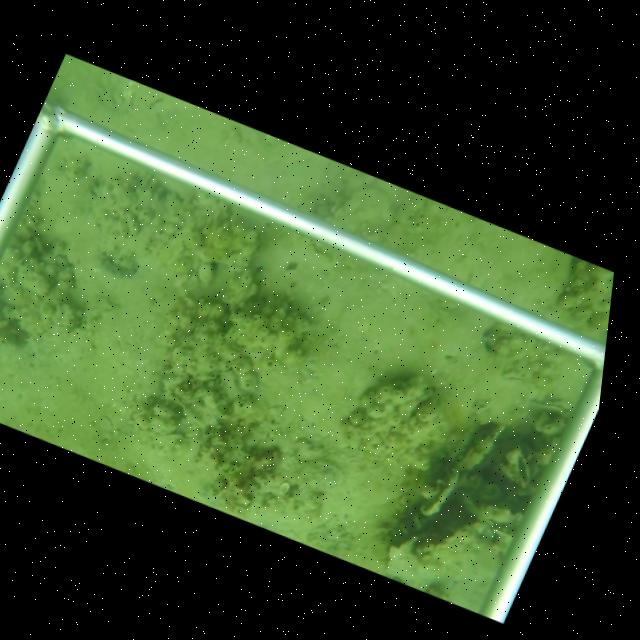Oyster-Closed: (529, 395, 576, 419)
Oyster-Indeterminate: (322, 183, 395, 236)
